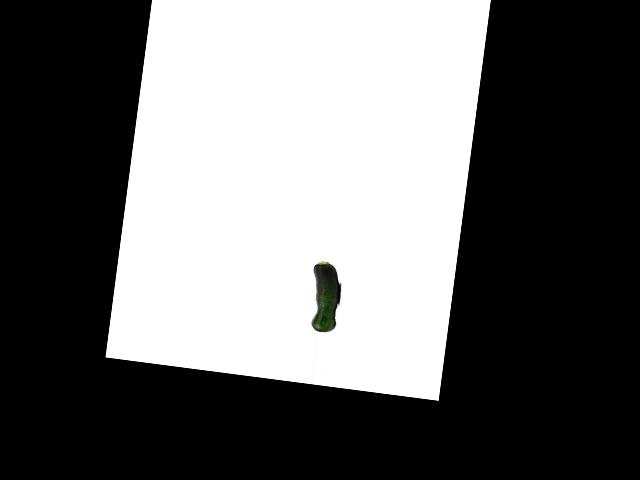cucumber: (305, 260, 344, 333)
